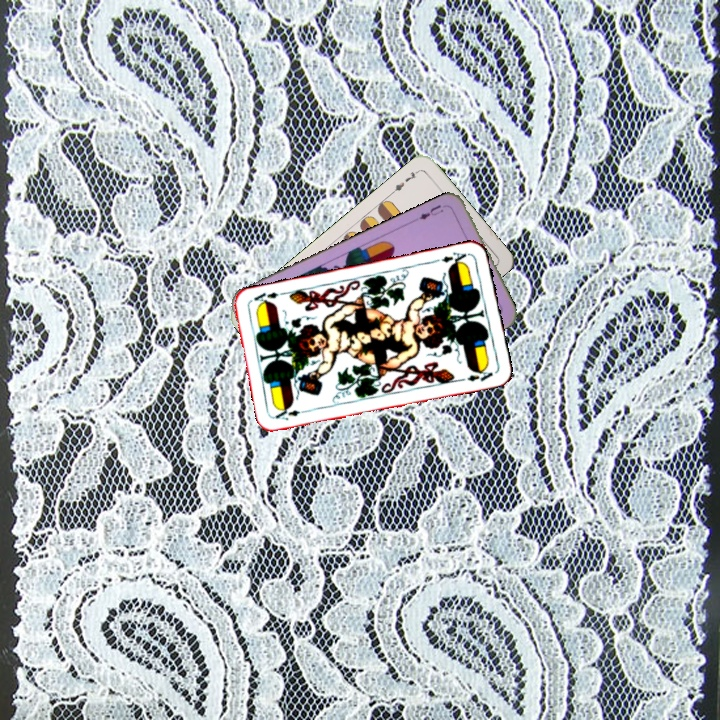E7: (388, 166, 422, 196)
EA: (437, 248, 471, 269), (271, 406, 311, 423)
EU: (415, 200, 451, 222)
